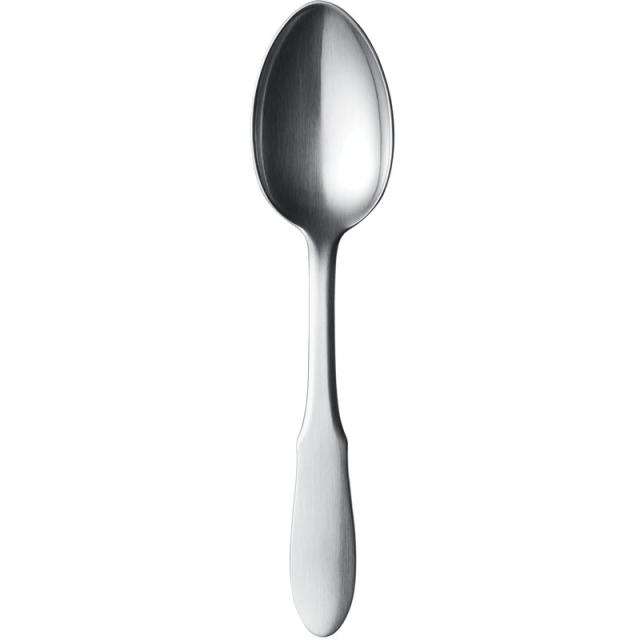spoon: (248, 0, 401, 637)
